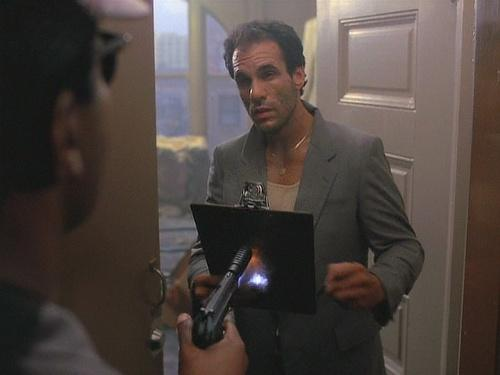Gun: (193, 244, 254, 352)
